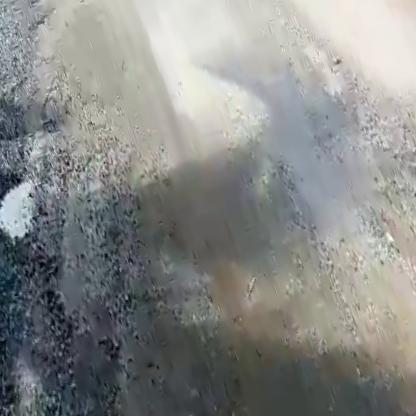pothole: (0, 172, 47, 248)
